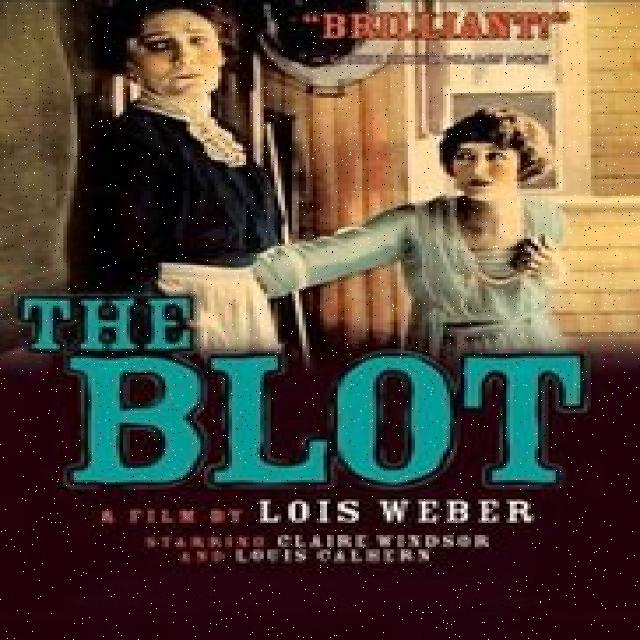movie-judul: (27, 290, 596, 496)
picture: (82, 11, 573, 342)
